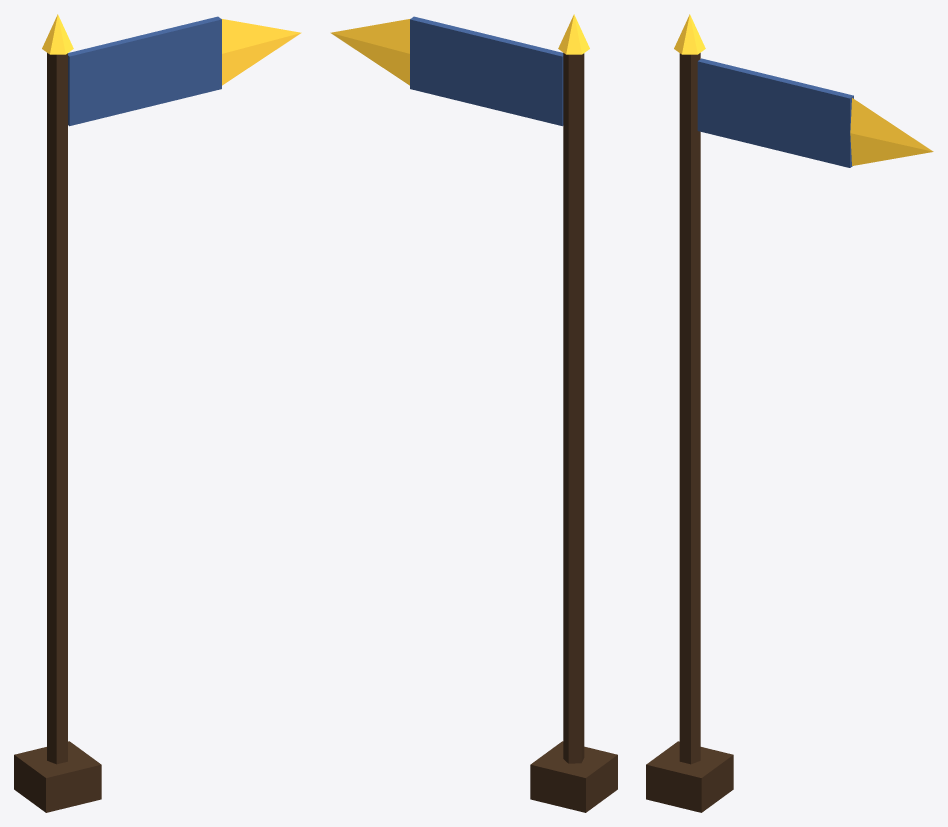
File: pennant_pole.glb
The picture shows the model from 3 angles, left to right: view 1: azimuth 30°, elevation 25°; view 2: azimuth 150°, elevation 25°; view 3: azimuth 330°, elevation 25°; orthographic projection.
Visible parts, largest first — view 1: pole, pennant_blue, base, pennant_tail, cap_finial; view 2: pole, pennant_blue, base, pennant_tail, cap_finial; view 3: pole, pennant_blue, base, pennant_tail, cap_finial.
Part boxes in pixels (left/top/right/bottom): pole: left=47, top=53, right=67, bottom=764; pennant_blue: left=68, top=16, right=221, bottom=126; base: left=14, top=741, right=101, bottom=812; pennant_tail: left=222, top=19, right=301, bottom=85; cap_finial: left=42, top=14, right=73, bottom=54; pole: left=563, top=53, right=584, bottom=763; pennant_blue: left=410, top=16, right=563, bottom=126; base: left=530, top=741, right=617, bottom=812; pennant_tail: left=330, top=19, right=409, bottom=85; cap_finial: left=558, top=14, right=589, bottom=54; pole: left=679, top=53, right=700, bottom=764; pennant_blue: left=697, top=58, right=853, bottom=167; base: left=646, top=741, right=733, bottom=812; pennant_tail: left=850, top=98, right=933, bottom=165; cap_finial: left=674, top=14, right=705, bottom=54.
Size of what is drawn, in the model's own units: 0.98 by 2.69 by 0.2.
